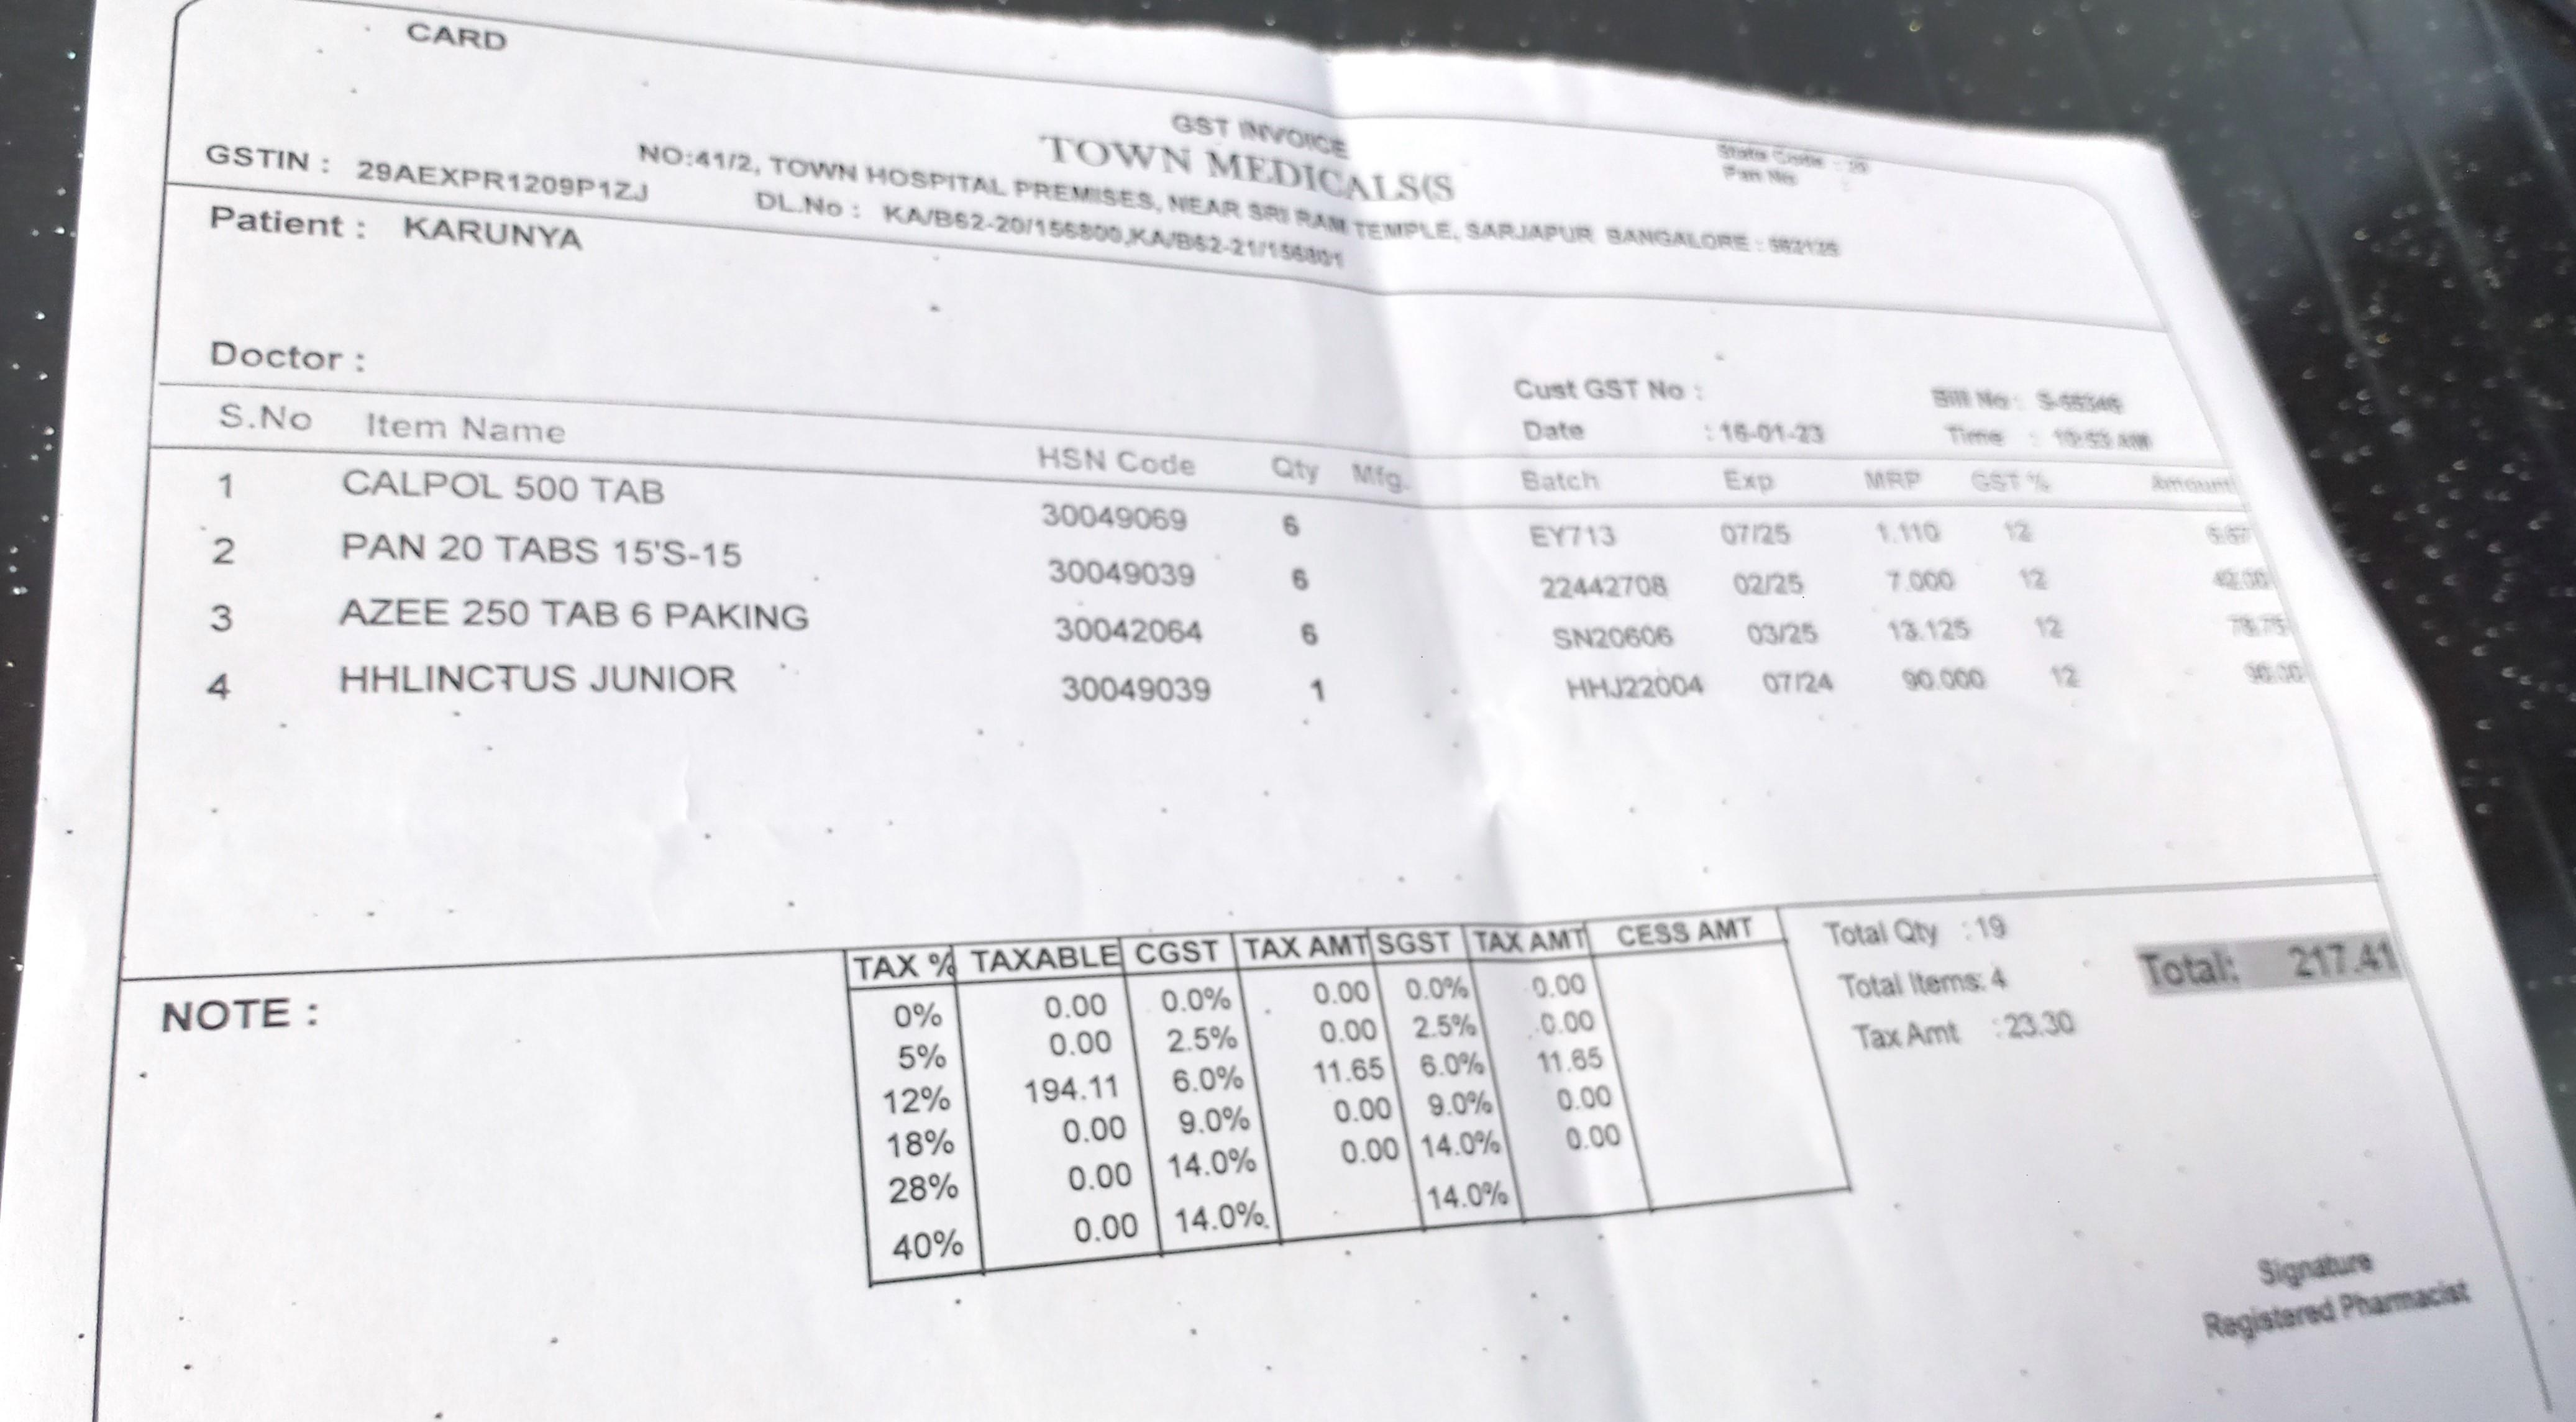InvoiceDate: (1704, 410, 1848, 454)
InvoiceNumber: (2033, 382, 2142, 422)
TotalAmount: (2275, 918, 2413, 996)
